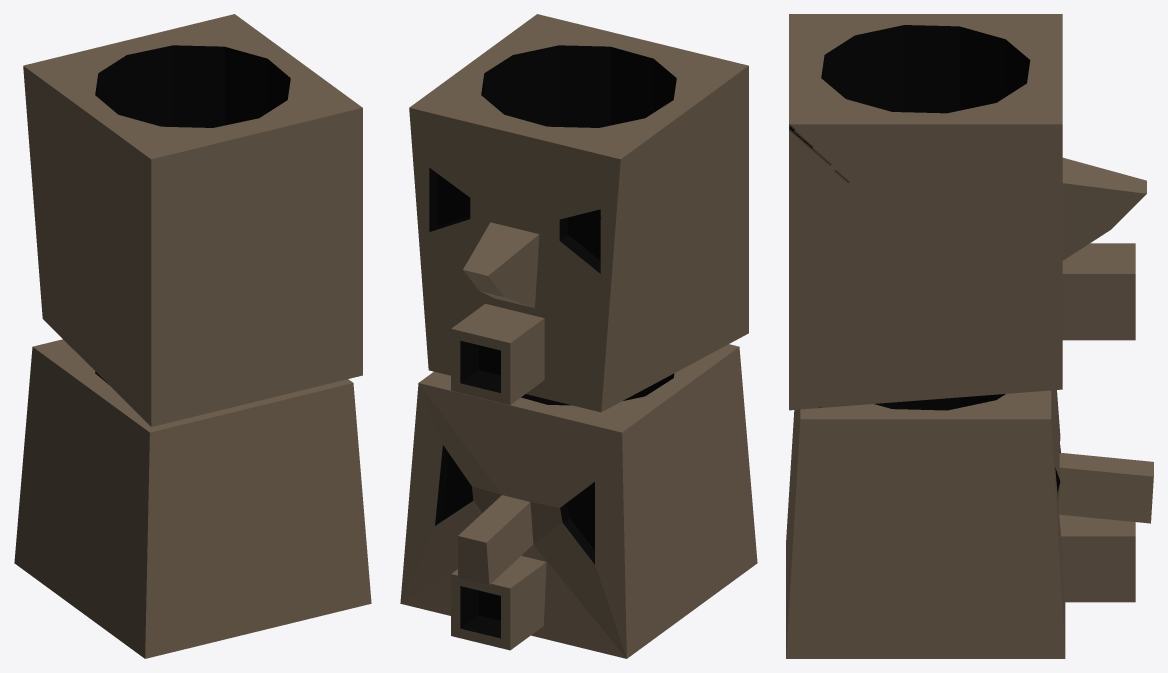
File: goblin_totems_totem2.fbx
The picture shows the model from 3 angles, left to right: view 1: azimuth 30°, elevation 25°; view 2: azimuth 150°, elevation 25°; view 3: azimuth 270°, elevation 25°; orthographic projection. The views are drawn at different scales.
Parts seen in each view (by area): view 1: totem1.002; view 2: totem1.002; view 3: totem1.002.
Part boxes in pixels (x1,y1,x2,y2): totem1.002: [14, 14, 371, 658]; totem1.002: [400, 14, 757, 658]; totem1.002: [786, 14, 1153, 658].
Size of the model in its own units: 32.78 by 68.74 by 43.16.
Materials: 1 (1 with a texture image).
